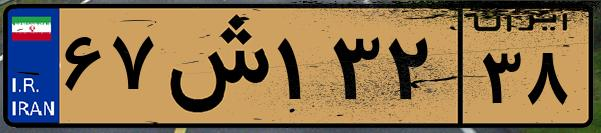1: (270, 28, 330, 110)
2: (385, 28, 445, 110)
3: (330, 28, 385, 110), (475, 38, 525, 113)
6: (57, 26, 110, 100)
7: (110, 28, 158, 98)
8: (525, 38, 570, 115)
ش: (158, 12, 270, 120)
